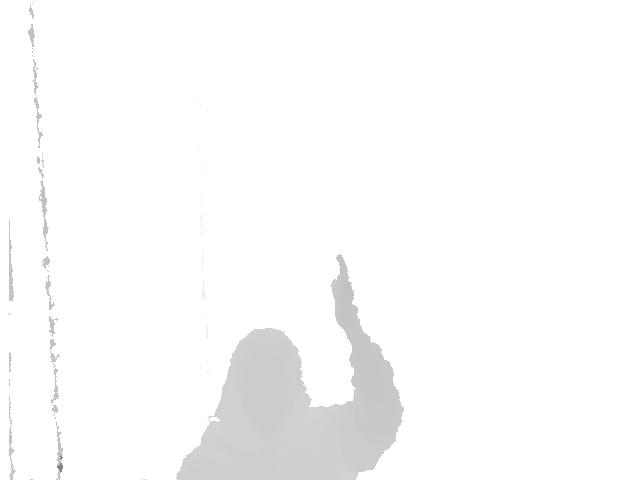hand: (330, 253, 354, 311)
head: (216, 328, 311, 409)
person: (177, 253, 404, 480)
